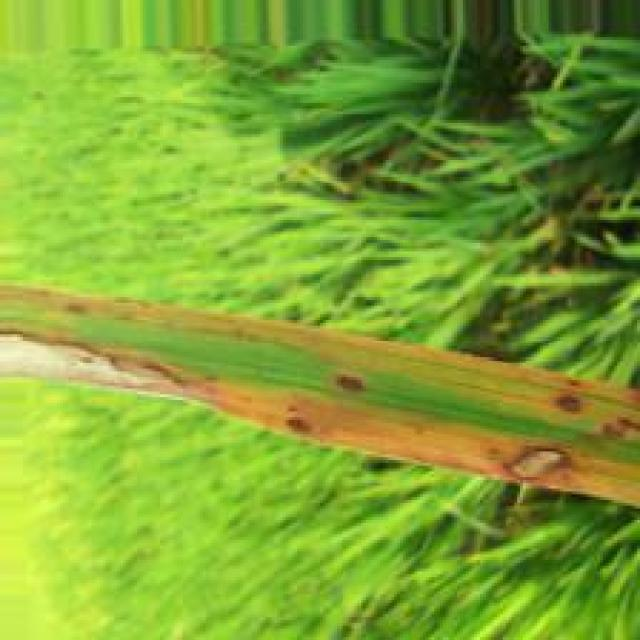Leaf_Blast: (0, 319, 597, 494), (554, 392, 586, 416), (334, 372, 364, 394)
